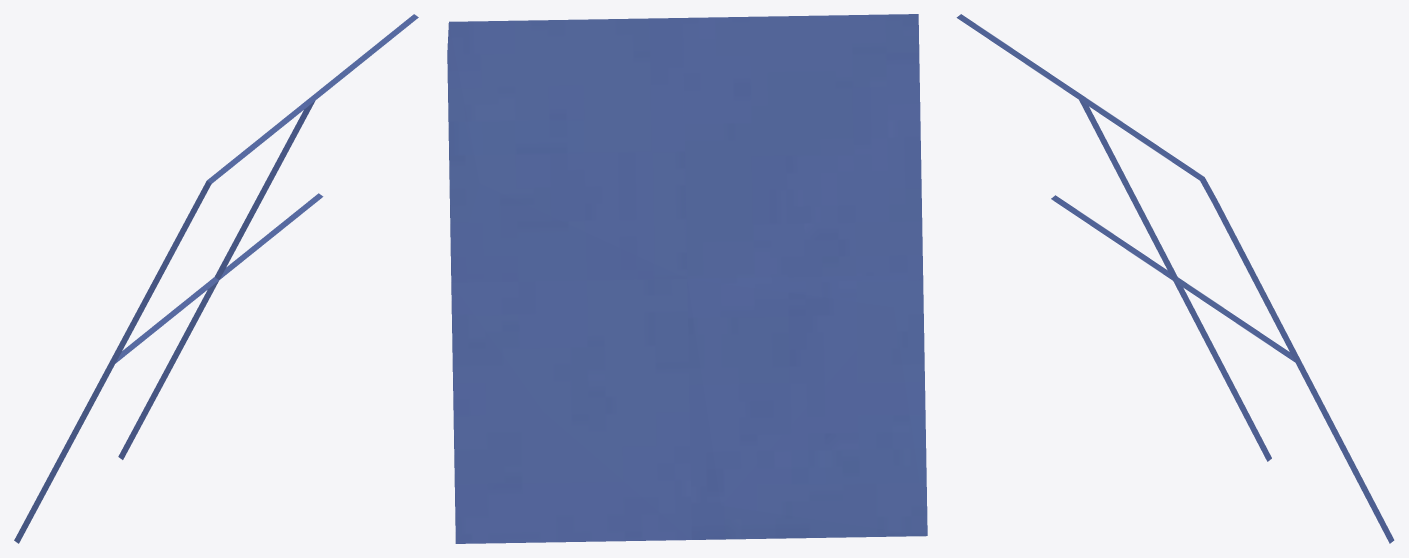
The picture shows the model from 3 angles, left to right: view 1: azimuth 30°, elevation 25°; view 2: azimuth 150°, elevation 25°; view 3: azimuth 270°, elevation 25°; orthographic projection. The views are drawn at different scales.
Size of the model in its own units: 19639 by 17712 by 16935.
1 material, 1 textured.
